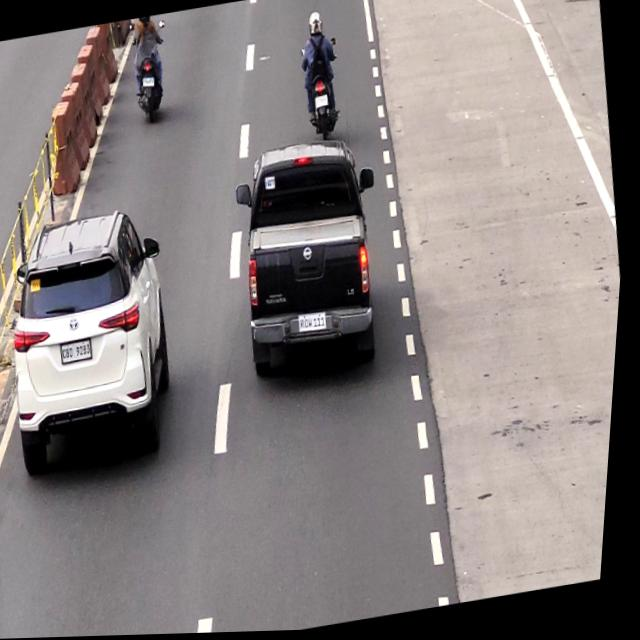Car: (0, 205, 192, 479), (233, 135, 394, 383)
License-Plate: (62, 337, 102, 368), (301, 310, 334, 336), (316, 95, 333, 112)
Motorcycle: (295, 12, 347, 139), (127, 16, 172, 126)
